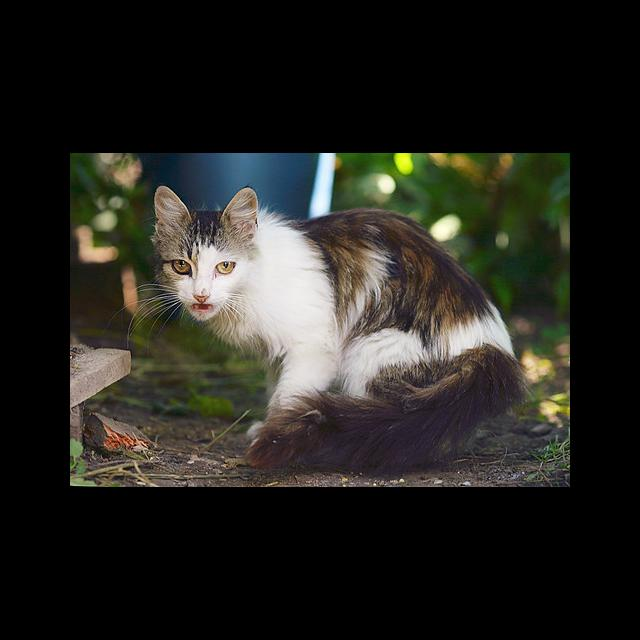animals: (152, 186, 515, 472)
